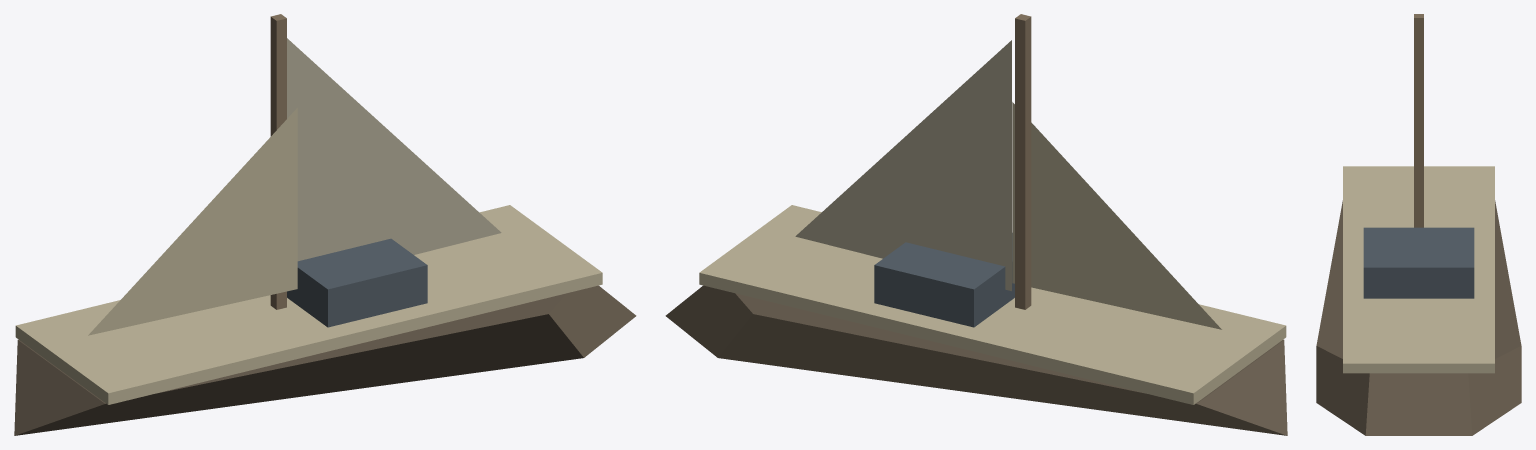
The model's file is sailboat_west_bay.glb.
The picture shows the model from 3 angles, left to right: view 1: azimuth 30°, elevation 25°; view 2: azimuth 150°, elevation 25°; view 3: azimuth 270°, elevation 25°; orthographic projection. The views are drawn at different scales.
Parts seen in each view (by area): view 1: Sailboat_deck.003, Sailboat_hull.003, Sailboat_main_sail.003, Sailboat_jib.003, Sailboat_cabin.003, Sailboat_mast.003; view 2: Sailboat_deck.003, Sailboat_hull.003, Sailboat_main_sail.003, Sailboat_jib.003, Sailboat_cabin.003, Sailboat_mast.003; view 3: Sailboat_deck.003, Sailboat_hull.003, Sailboat_cabin.003, Sailboat_mast.003.
Part boxes in pixels (x1,y1,x2,y2): Sailboat_deck.003: (15, 205, 602, 404); Sailboat_hull.003: (14, 285, 636, 435); Sailboat_main_sail.003: (287, 38, 501, 261); Sailboat_jib.003: (88, 108, 297, 335); Sailboat_cabin.003: (287, 238, 427, 327); Sailboat_mast.003: (270, 14, 286, 309); Sailboat_deck.003: (699, 205, 1286, 404); Sailboat_hull.003: (665, 285, 1287, 435); Sailboat_main_sail.003: (795, 40, 1011, 291); Sailboat_jib.003: (1012, 102, 1221, 329); Sailboat_cabin.003: (874, 233, 1014, 327); Sailboat_mast.003: (1015, 14, 1031, 309); Sailboat_deck.003: (1343, 166, 1494, 373); Sailboat_hull.003: (1316, 200, 1521, 435); Sailboat_cabin.003: (1363, 227, 1474, 298); Sailboat_mast.003: (1414, 14, 1423, 227).
Bounding box in the file's own units: 6.8 × 3.9 × 2.5.
